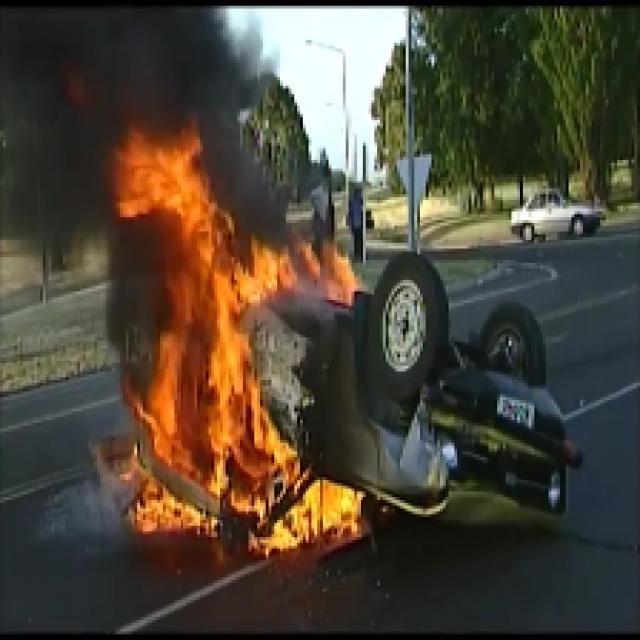Fire: (133, 146, 340, 554)
Smoke: (21, 15, 225, 130)
